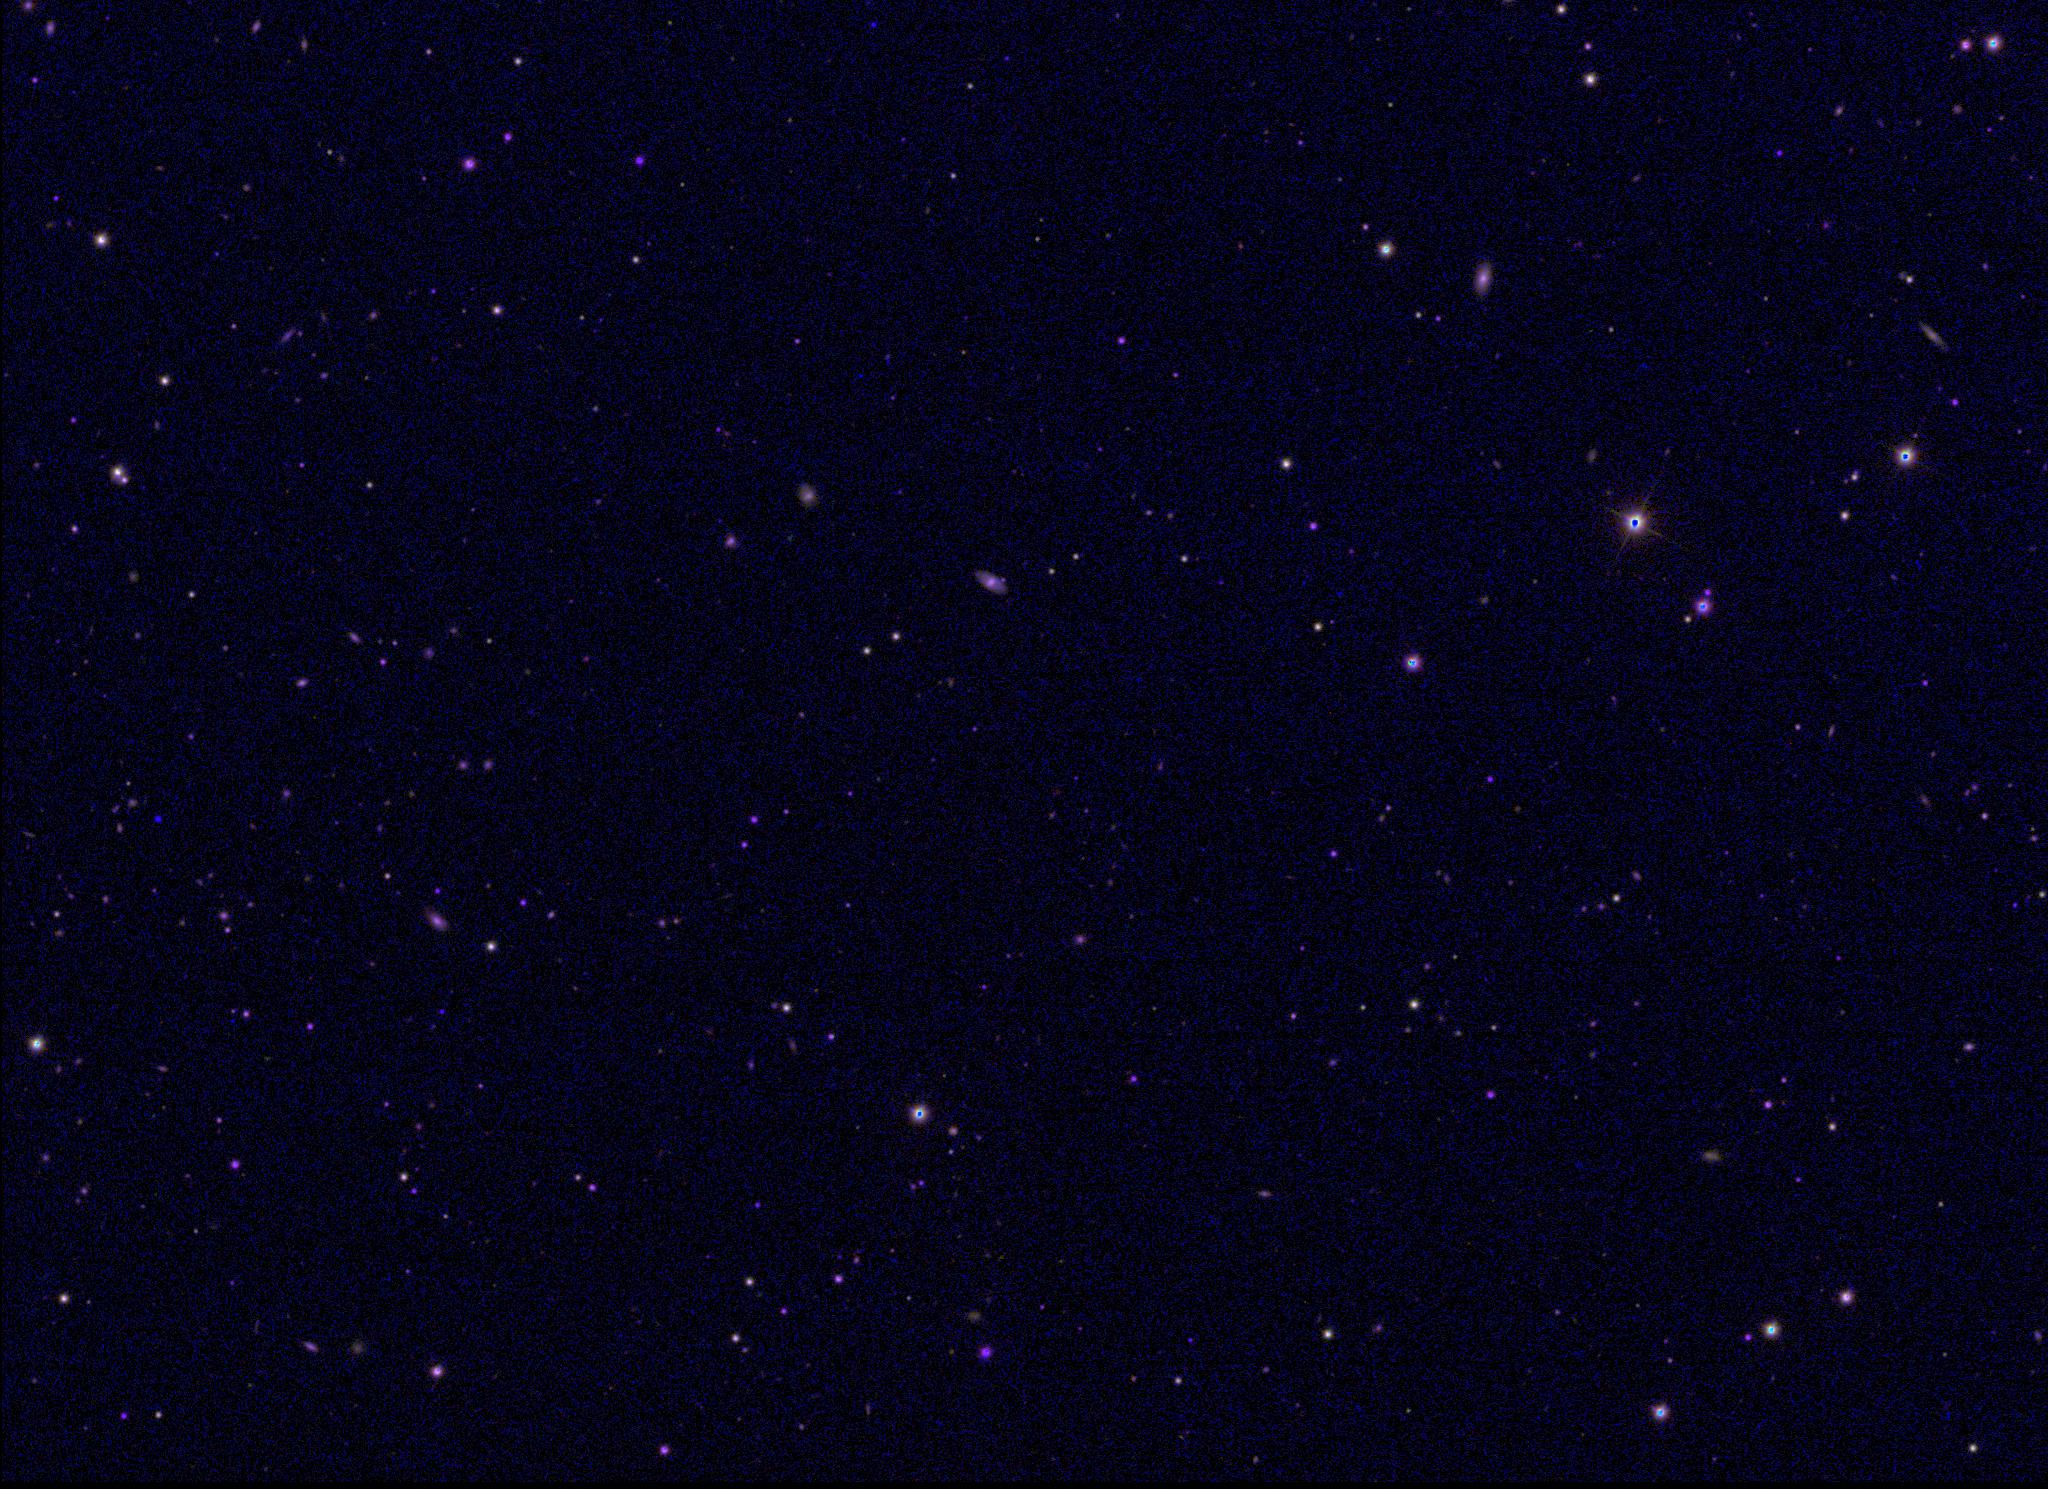L: (151, 811, 165, 826)
